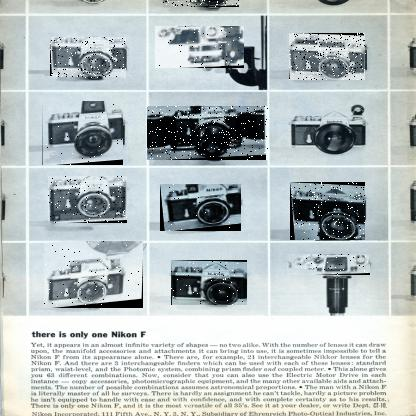Camera: (45, 242, 145, 310), (149, 107, 271, 162), (44, 102, 126, 167), (292, 183, 368, 242), (162, 185, 244, 233), (156, 27, 246, 70), (49, 177, 129, 225), (291, 34, 369, 82), (172, 261, 249, 307), (51, 39, 128, 81), (288, 255, 372, 277), (164, 1, 241, 9)
